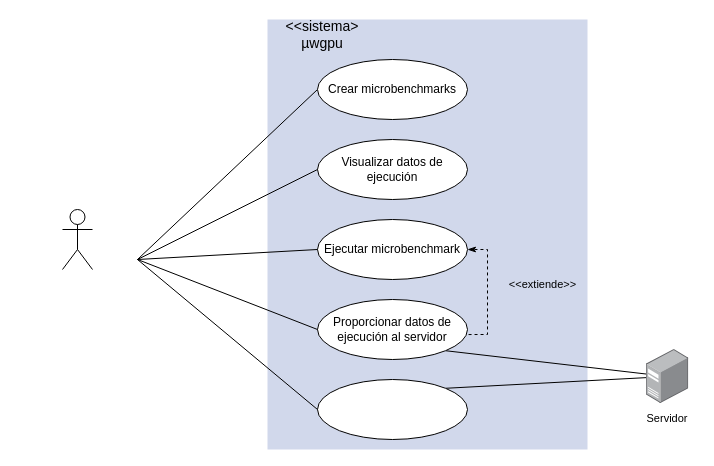
The diagram is 714 pixels wide and 466 high, and some of its shapes have lost their labels. The shapes that lost their labels are listed below. From the top down, each one's centre as x and y in pixels, then its label:
At point (77, 239): "Desarrollador / Investigador".
At point (392, 409): "Visualizar datos históricos".
